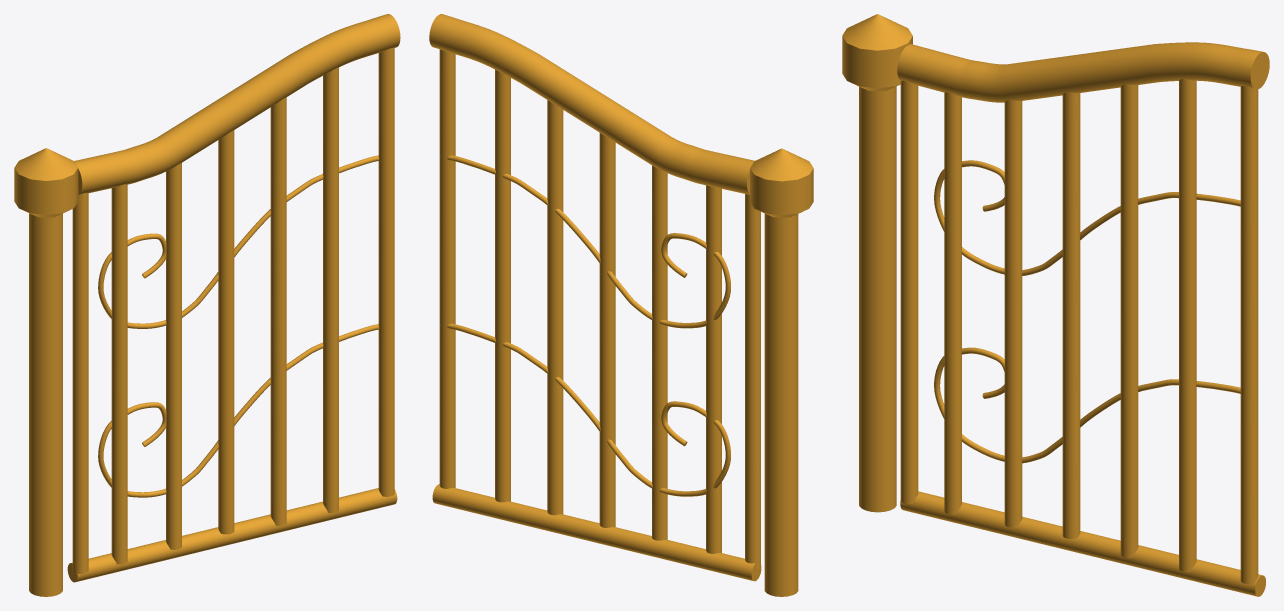
Rendered from halfGate(2).FBX.
3 views of the same model, side by side, from view 1: azimuth 30°, elevation 25°; view 2: azimuth 150°, elevation 25°; view 3: azimuth 330°, elevation 25° (orthographic). The views are drawn at different scales.
Parts seen in each view (by area): view 1: Cylinder001, Line020, Cylinder004, Cylinder006, Cylinder005, Cylinder007, Cylinder002, Cylinder003, Cylinder008, Cylinder009, Spindle001, Line022 (+1 smaller); view 2: Cylinder001, Line020, Cylinder004, Cylinder006, Cylinder005, Cylinder009, Cylinder007, Cylinder002, Cylinder008, Cylinder003, Spindle001, Line022 (+1 smaller); view 3: Cylinder001, Line020, Cylinder004, Cylinder006, Cylinder005, Cylinder007, Cylinder008, Cylinder002, Cylinder003, Cylinder009, Spindle001, Line021 (+1 smaller).
Part boxes in pixels (x1,y1,x2,y2): Cylinder001: (29,213,62,596); Line020: (74,14,400,195); Cylinder004: (378,48,394,496); Cylinder006: (270,97,286,525); Cylinder005: (323,67,338,513); Cylinder007: (218,130,234,534); Cylinder002: (72,190,88,573); Cylinder003: (111,184,127,564); Cylinder008: (166,163,181,549); Cylinder009: (67,488,397,582); Spindle001: (14,148,78,217); Line022: (98,155,378,328); Cylinder001: (764,214,798,596); Line020: (429,14,754,194); Cylinder004: (439,49,455,488); Cylinder006: (547,100,563,515); Cylinder005: (495,69,510,502); Cylinder009: (432,484,761,581); Cylinder007: (599,133,615,527); Cylinder002: (745,194,760,569); Cylinder008: (652,165,667,540); Cylinder003: (706,185,721,553); Spindle001: (750,148,813,217); Line022: (440,155,730,328); Cylinder001: (859,86,896,512); Line020: (897,42,1269,102); Cylinder004: (1240,86,1258,584); Cylinder006: (1120,84,1138,557); Cylinder005: (1179,79,1196,572); Cylinder007: (1062,92,1080,538); Cylinder008: (1004,100,1022,527); Cylinder002: (900,80,918,503); Cylinder003: (944,92,961,514); Cylinder009: (900,491,1265,596); Spindle001: (842,14,912,91); Line021: (934,347,1240,463).
Size of the model in its own units: 9.46 by 11.89 by 1.4.
